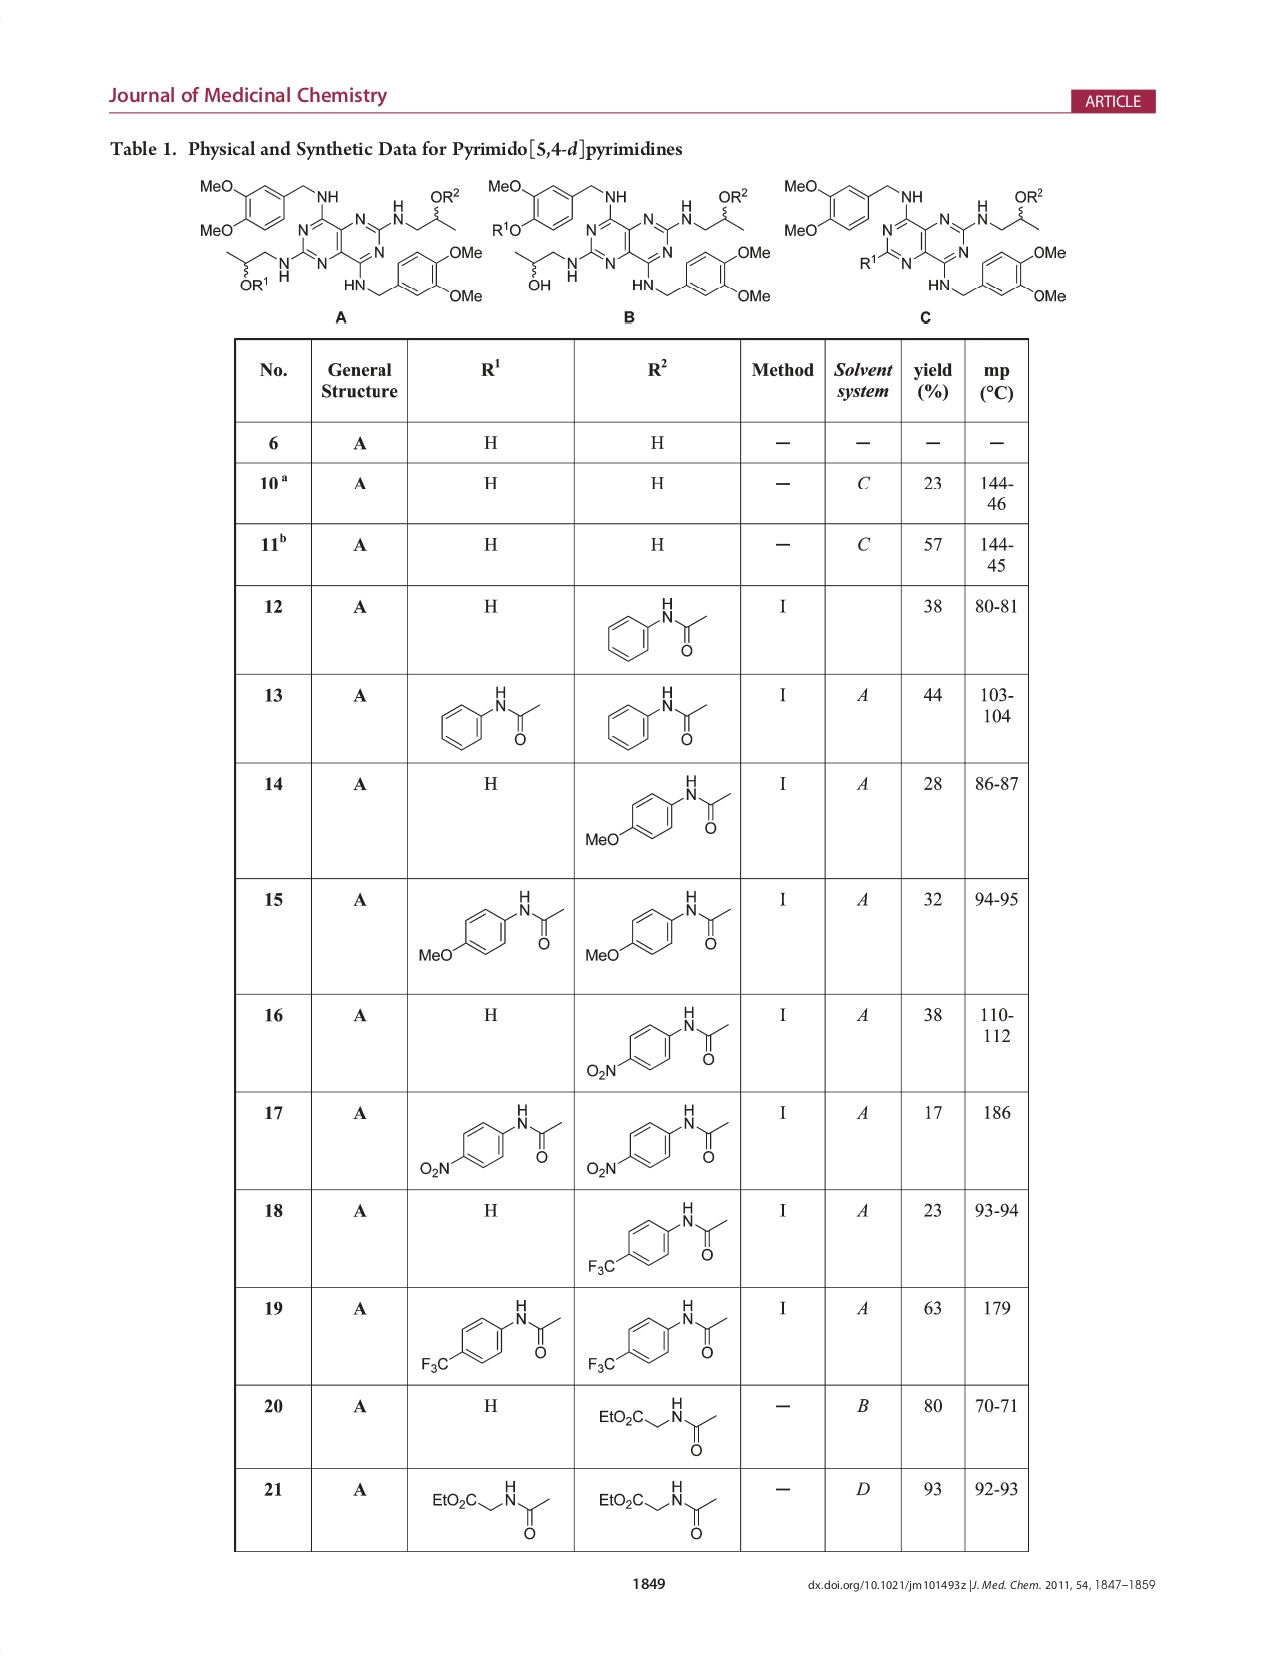exist_molecular: (779, 170, 1068, 307), (188, 176, 484, 309), (487, 173, 773, 309), (415, 887, 569, 969), (584, 771, 733, 856), (582, 886, 735, 968), (582, 1101, 731, 1182), (584, 1297, 730, 1379), (584, 1003, 731, 1084), (418, 1101, 564, 1181), (585, 1198, 727, 1279), (420, 1295, 563, 1374), (424, 1476, 555, 1545), (593, 1477, 725, 1544), (602, 681, 709, 755), (601, 590, 709, 664), (434, 681, 547, 750), (600, 1395, 719, 1458)
